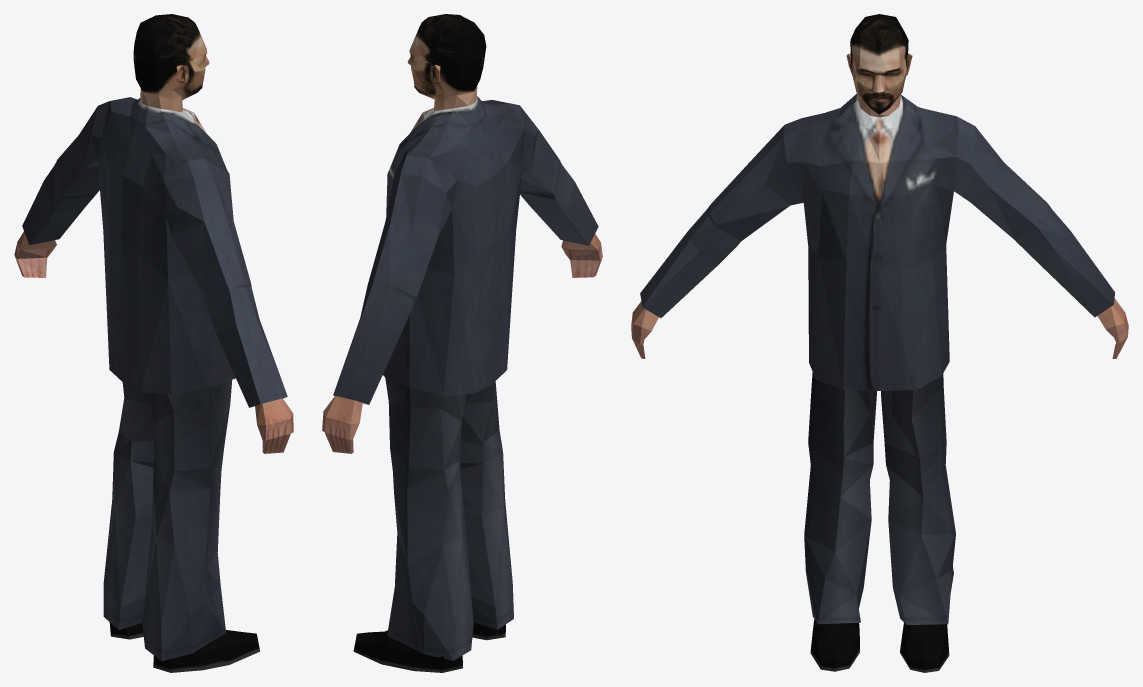
The model's file is mafboss.obj.
3 renders of one model, left to right at view 1: azimuth 30°, elevation 25°; view 2: azimuth 150°, elevation 25°; view 3: azimuth 270°, elevation 25°, orthographic.
Visible parts, largest first — view 1: _Pelvis; view 2: _Pelvis; view 3: _Pelvis.
Part boxes in pixels (box(x1,y1,x2,y2)): _Pelvis: box(14, 14, 293, 672); _Pelvis: box(322, 14, 602, 672); _Pelvis: box(631, 14, 1128, 672).
Size of the model in its own units: 0.3615 by 1.86 by 1.35.
1 material, 1 textured.
